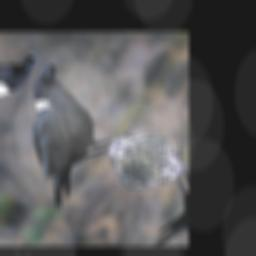Crow: (0, 58, 152, 220)
